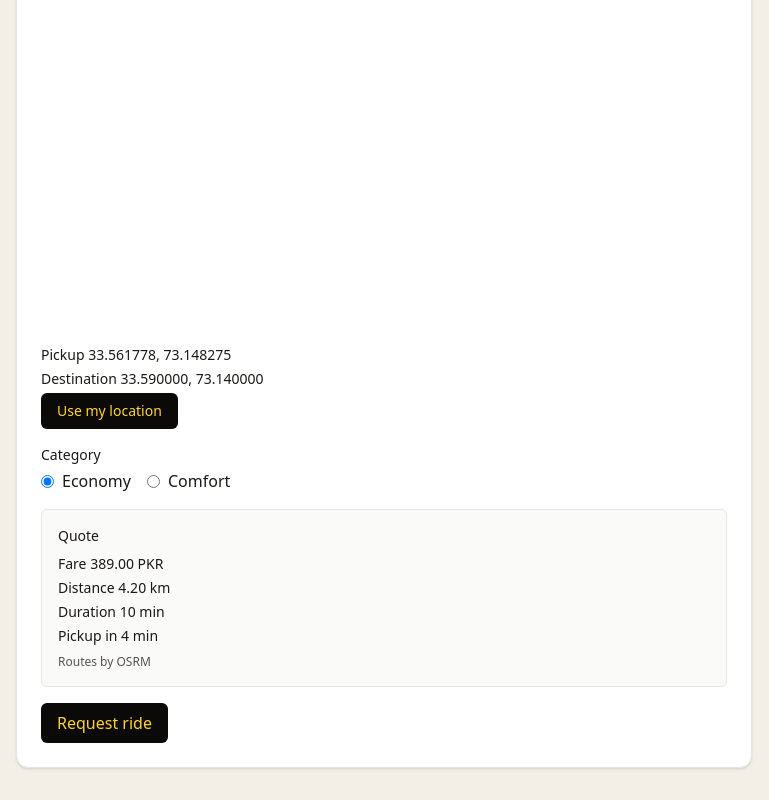
Scenario: shows the error and drops the busy label when create fails
The width and height of the screenshot is (769, 800).
(page scrolled)
expect the text "Pickup 33.561778, 73.148275" is shown: met, box [41,345,231,364]
expect the text "389.00" is shown: met, box [90,554,134,573]
Click the button "Request ride": [104, 723] box [41,703,168,743]
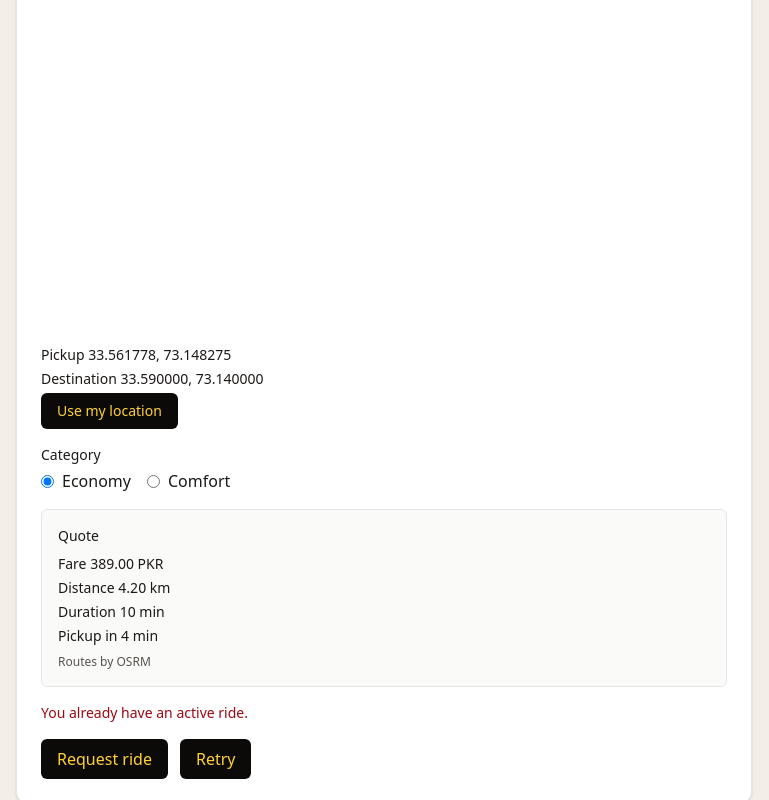
expect the text "You already have an active ride." is shown: met, box [41,703,248,722]
expect the button "Retry" is shown: met, box [180,739,251,779]
